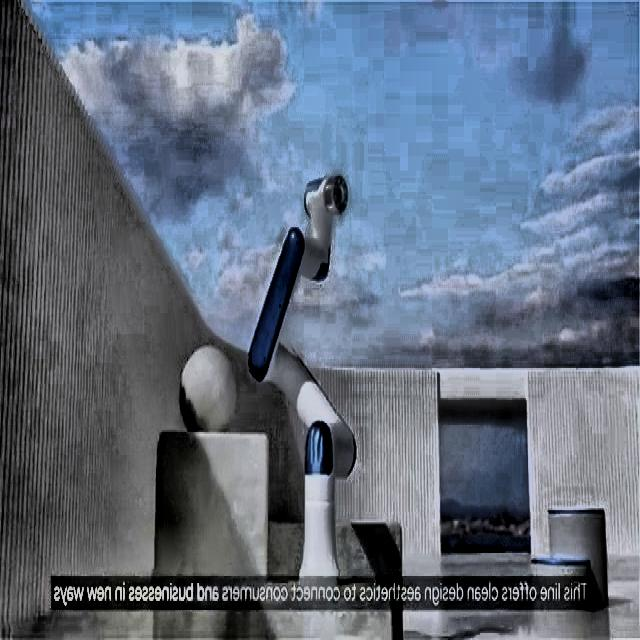robot: (248, 171, 358, 583)
